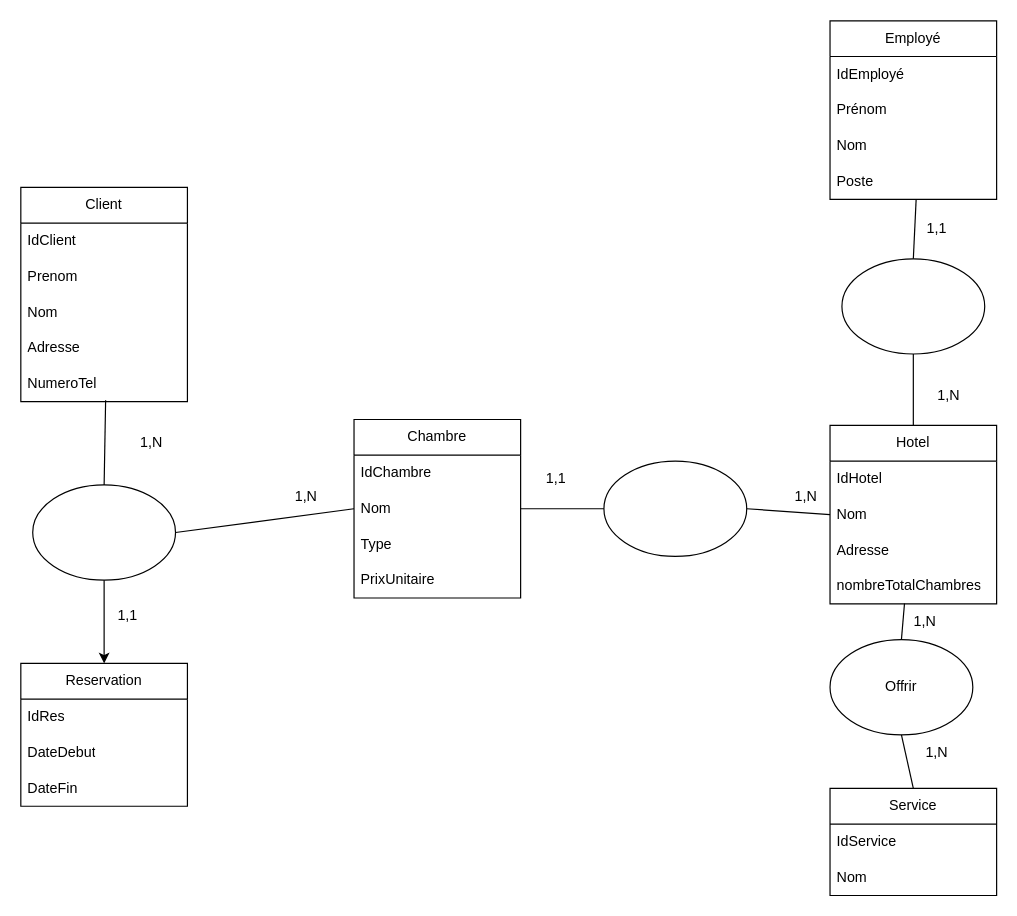
Image size: 1017x916. Some labels were removed from this diagram. Each missing label, with the centre of its shape:
"Avoir" goes at point 675,508.
"Effectuer" goes at point 104,532.
"Travailler" goes at point 913,306.
